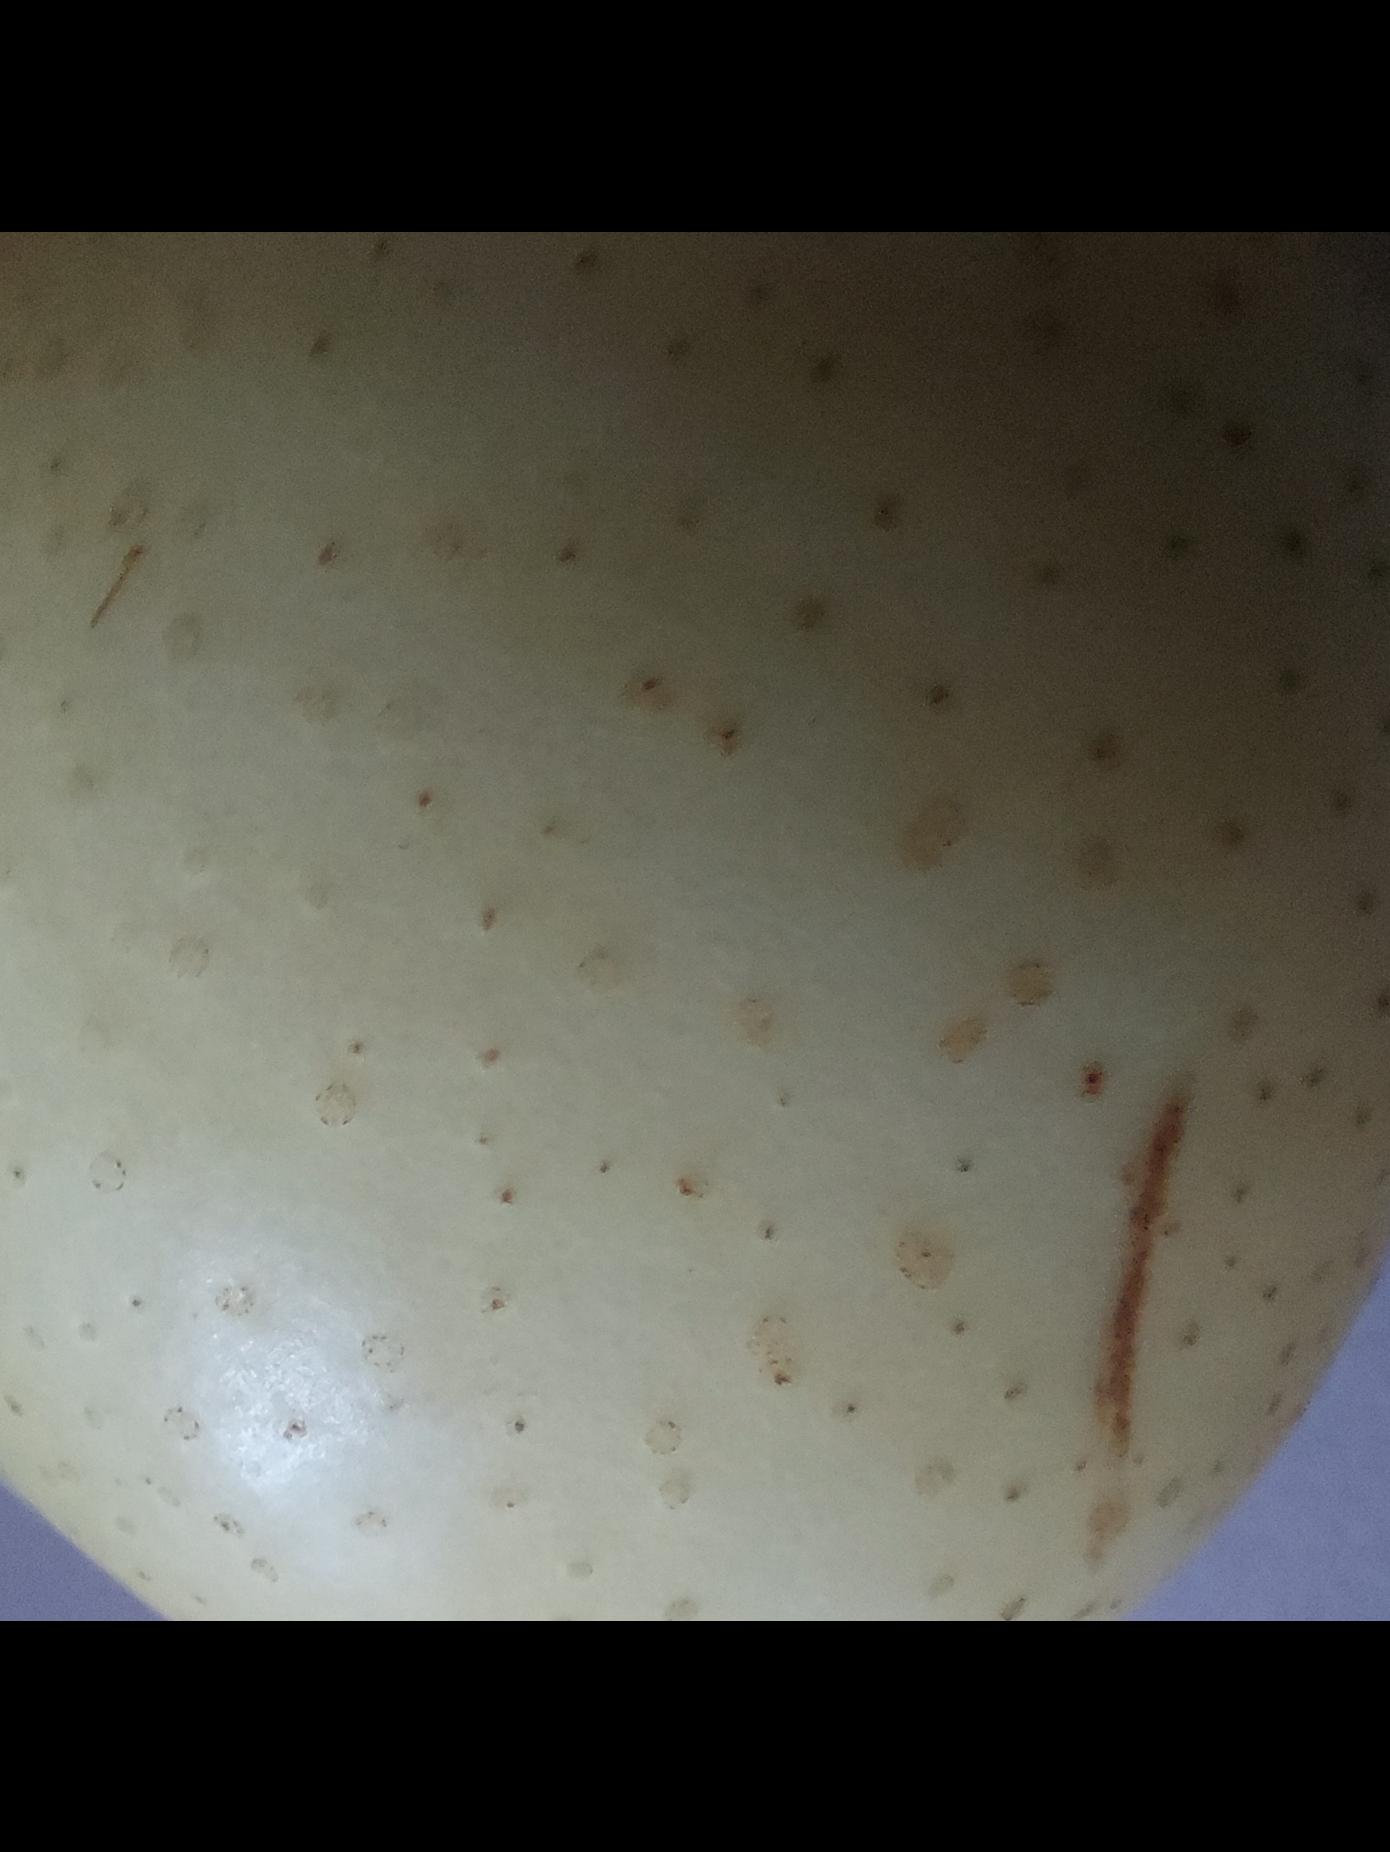Good Pear: (0, 238, 1390, 1621)
